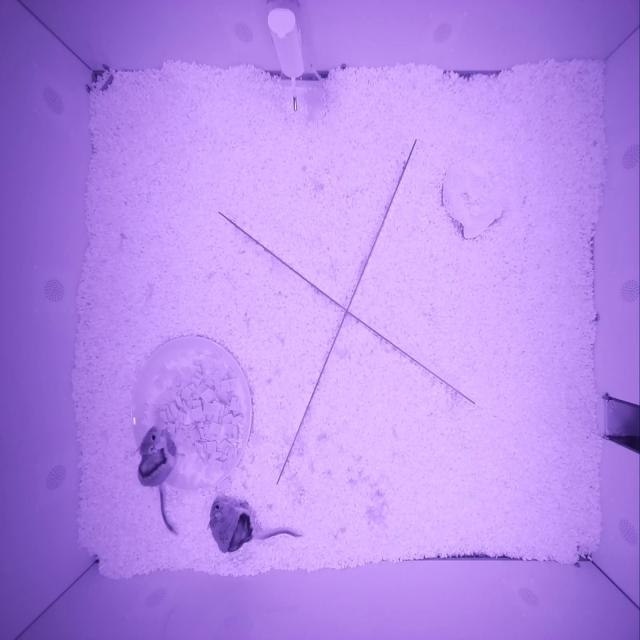adult_back: (207, 502, 254, 554)
adult_front: (138, 427, 175, 487)
